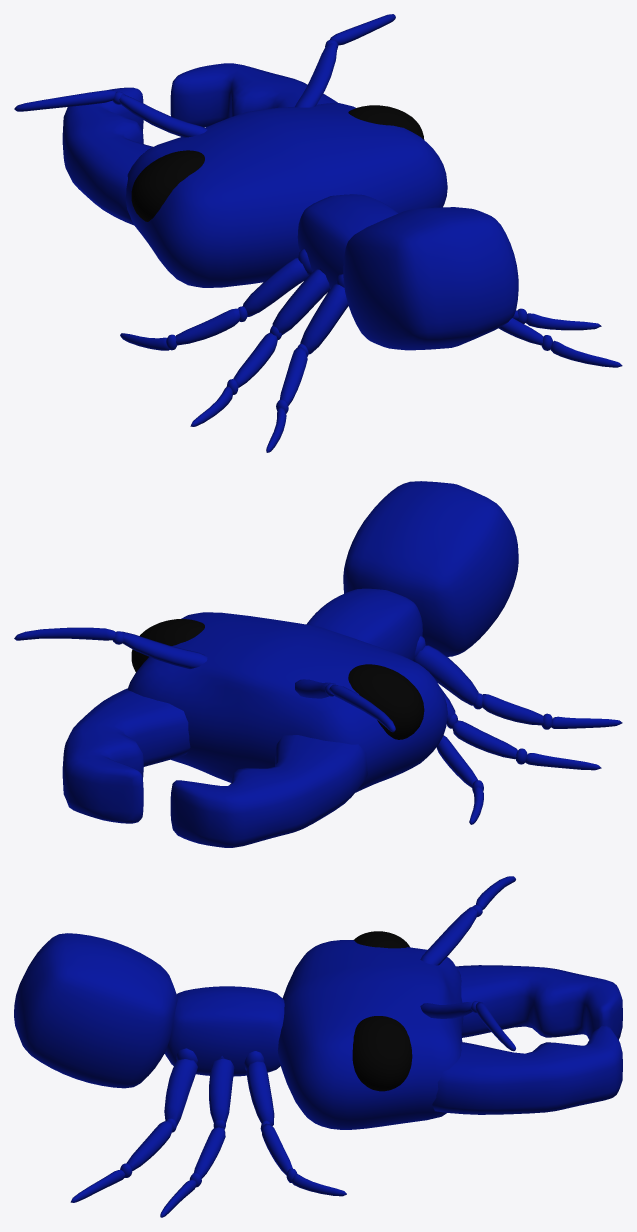
File: Player bleu.fbx
3 renders of one model, top to bottom at view 1: azimuth 30°, elevation 25°; view 2: azimuth 150°, elevation 25°; view 3: azimuth 270°, elevation 25°, orthographic. The views are drawn at different scales.
Parts seen in each view (by area): view 1: Major bleu; view 2: Major bleu; view 3: Major bleu.
Boxes of the visible parts, x1,y1,x2,y2 form: Major bleu: (14,14,622,452); Major bleu: (14,481,622,847); Major bleu: (14,876,622,1217).
Bounding box in the file's own units: 1.78 × 0.8115 × 2.46.
